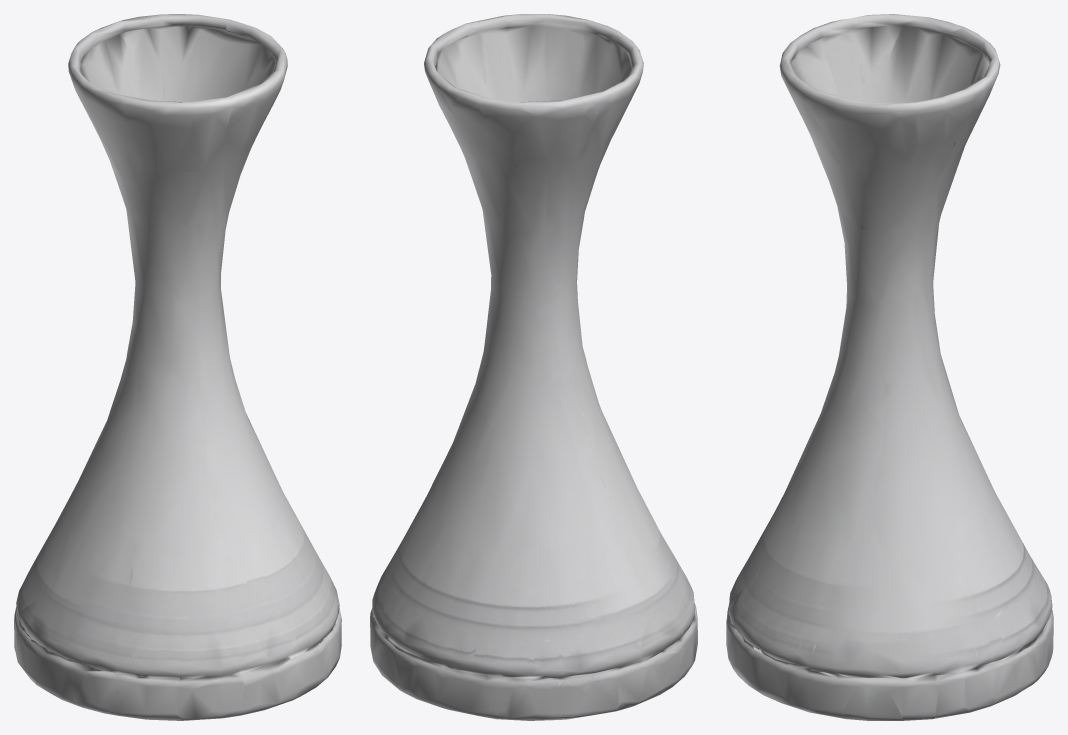
File: pawn-white.glb
3 renders of one model, left to right at view 1: azimuth 30°, elevation 25°; view 2: azimuth 150°, elevation 25°; view 3: azimuth 270°, elevation 25°, orthographic.
Size of the model in its own units: 0.4721 by 0.95 by 0.4721.
Materials: 1 (1 with a texture image).
